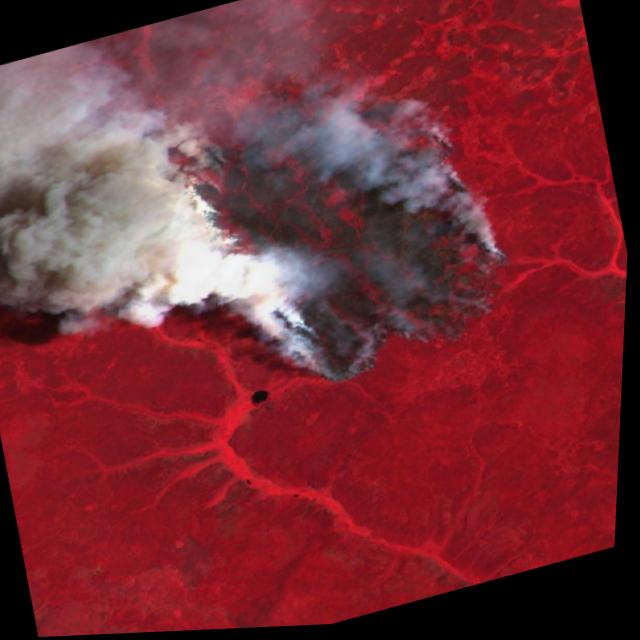fire: (111, 32, 547, 433)
